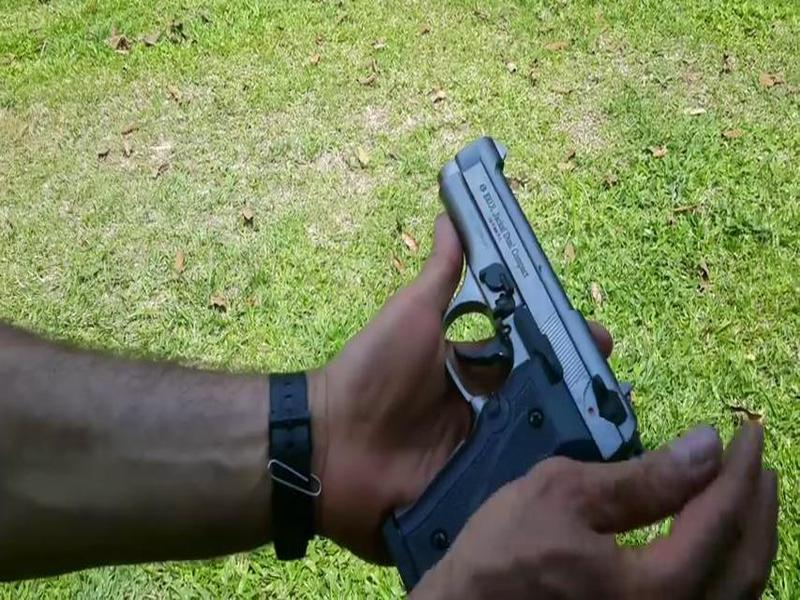Pistola: (384, 122, 675, 600)
